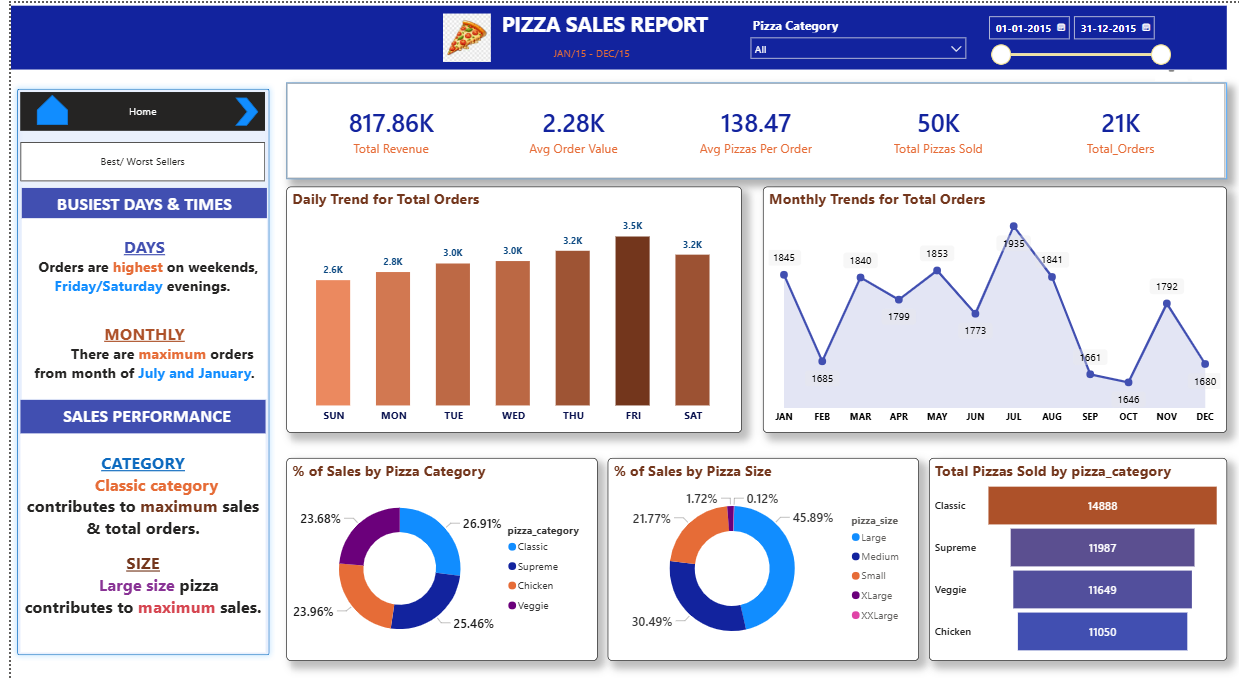

The page's visual inventory and layout, read from the dashboard file:
{"tool":"powerbi","page":{"name":"Home","canvas":[1600,900],"ordinal":0},"visuals":[{"type":"shape","box":[0,102.7,344,752],"z":0},{"type":"cardVisual","fields":{"Data":["pizza_sales.Total Revenue","pizza_sales.Avg Order Value","pizza_sales.Avg Pizzas Per Order","pizza_sales.Total Pizzas Sold","pizza_sales.Total_Orders"]},"box":[357.8,103.1,1221.9,125],"z":1000},{"type":"textbox","box":[13.2,279.2,318.9,235.8],"z":2000},{"type":"textbox","box":[12.5,515.6,318.8,43.8],"z":3000},{"type":"textbox","box":[0,3.1,1579.7,82.8],"z":4000},{"type":"textbox","box":[700,51.6,126.6,28.1],"z":5000},{"type":"image","box":[560.9,6.2,62.5,76.6],"z":6000},{"type":"columnChart","title":"Daily Trend for Total Orders","fields":{"Category":["pizza_sales.Order Day"],"Y":["pizza_sales.Total_Orders"]},"box":[357.8,239.1,592,320],"z":7000},{"type":"areaChart","title":"Monthly Trends for Total Orders","fields":{"Category":["pizza_sales.Order Month"],"Y":["pizza_sales.Total_Orders"]},"box":[976.6,239.1,603.1,320.3],"z":8000},{"type":"donutChart","title":"% of Sales by Pizza Category","fields":{"Category":["pizza_sales.pizza_category"],"Y":["pizza_sales.Total Revenue"]},"box":[357.8,590.6,404.7,264.1],"z":9000},{"type":"donutChart","title":"% of Sales by Pizza Size","fields":{"Category":["pizza_sales.pizza_size"],"Y":["pizza_sales.Total Revenue"]},"box":[775,590.6,404.7,264.1],"z":10000},{"type":"funnel","fields":{"Y":["pizza_sales.Total Pizzas Sold"],"Category":["pizza_sales.pizza_category"]},"box":[1192.2,590.6,387.5,264.1],"z":11000},{"type":"textbox","box":[13.2,239.6,318.9,39.6],"z":12000},{"type":"textbox","box":[12.5,559.4,318.8,284.4],"z":13000},{"type":"slicer","fields":{"Values":["pizza_sales.pizza_category"]},"box":[950,12.5,300,73.4],"z":14000},{"type":"slicer","fields":{"Values":["pizza_sales.order_date"]},"box":[1257.3,6.7,257.3,76],"z":15000},{"type":"pageNavigator","box":[13.2,180.3,318.4,51.3],"z":16000},{"type":"pageNavigator","box":[13.2,115.8,318.4,50],"z":17000},{"type":"shape","box":[290.8,122.4,30.3,36.8],"z":18000},{"type":"shape","box":[32.9,119.7,40.8,39.5],"z":19000}]}

Visuals, with their boxes in screenshot pixels (x1, y1, x2, y2), scaled from the page's 1600x900 canvas onto the 1239x678 screenshot:
shape: <region>0, 77, 266, 644</region>
cardVisual - pizza_sales.Total Revenue x pizza_sales.Avg Order Value: <region>277, 78, 1223, 172</region>
textbox: <region>10, 210, 257, 388</region>
textbox: <region>10, 388, 257, 421</region>
textbox: <region>0, 2, 1223, 65</region>
textbox: <region>542, 39, 640, 60</region>
image: <region>434, 5, 483, 62</region>
"Daily Trend for Total Orders" columnChart: <region>277, 180, 736, 421</region>
"Monthly Trends for Total Orders" areaChart: <region>756, 180, 1223, 421</region>
"% of Sales by Pizza Category" donutChart: <region>277, 445, 590, 644</region>
"% of Sales by Pizza Size" donutChart: <region>600, 445, 914, 644</region>
funnel - pizza_sales.Total Pizzas Sold x pizza_sales.pizza_category: <region>923, 445, 1223, 644</region>
textbox: <region>10, 180, 257, 210</region>
textbox: <region>10, 421, 257, 636</region>
slicer - pizza_sales.pizza_category: <region>736, 9, 968, 65</region>
slicer - pizza_sales.order_date: <region>974, 5, 1173, 62</region>
pageNavigator: <region>10, 136, 257, 174</region>
pageNavigator: <region>10, 87, 257, 125</region>
shape: <region>225, 92, 249, 120</region>
shape: <region>25, 90, 57, 120</region>
